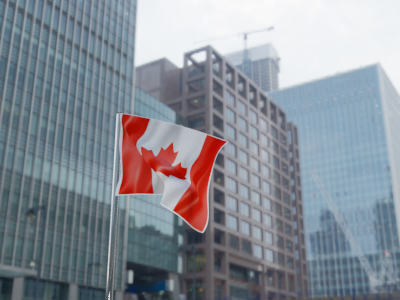Canada flag: (116, 112, 229, 234)
